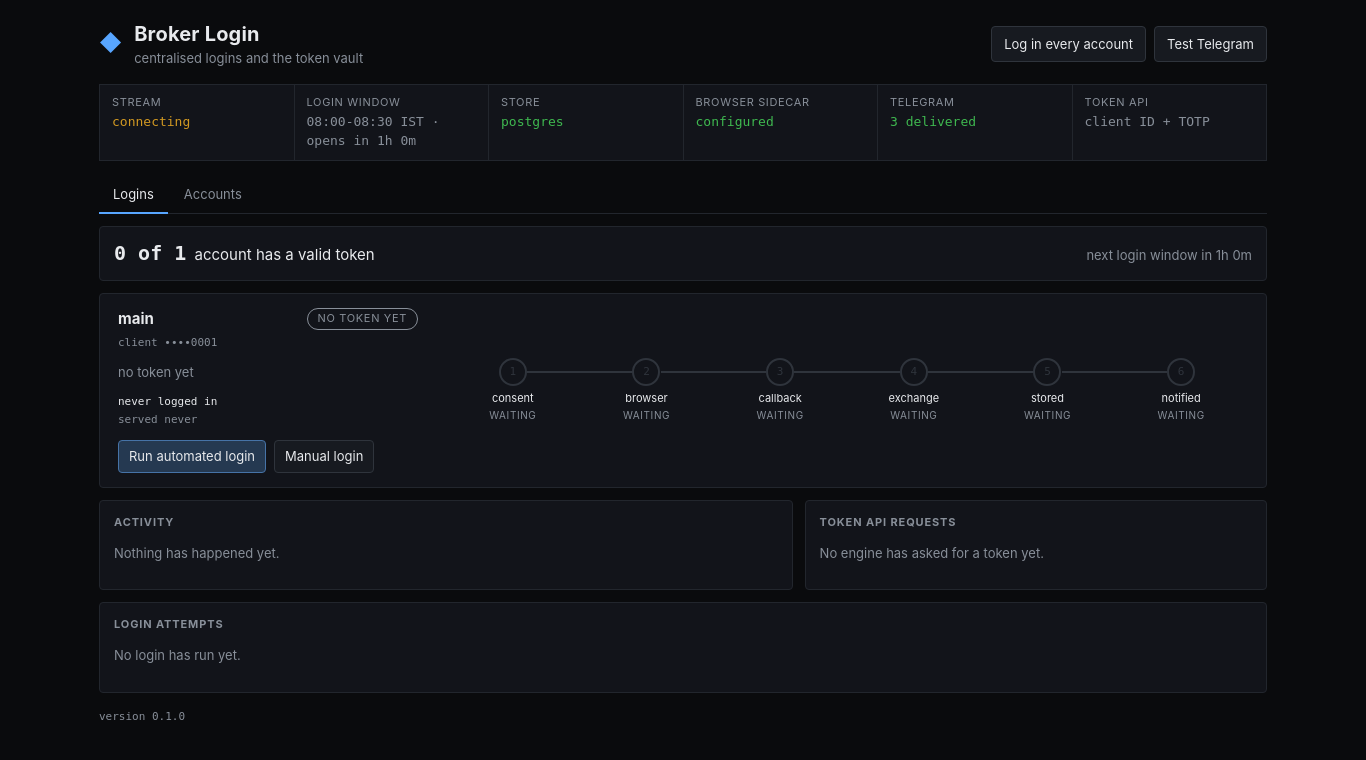
Test: App › queues logins and reports what the server said
The image size is (1366, 760).
Click the button "Log in every account" at {"x": 1069, "y": 44}, box [991,26,1146,62]
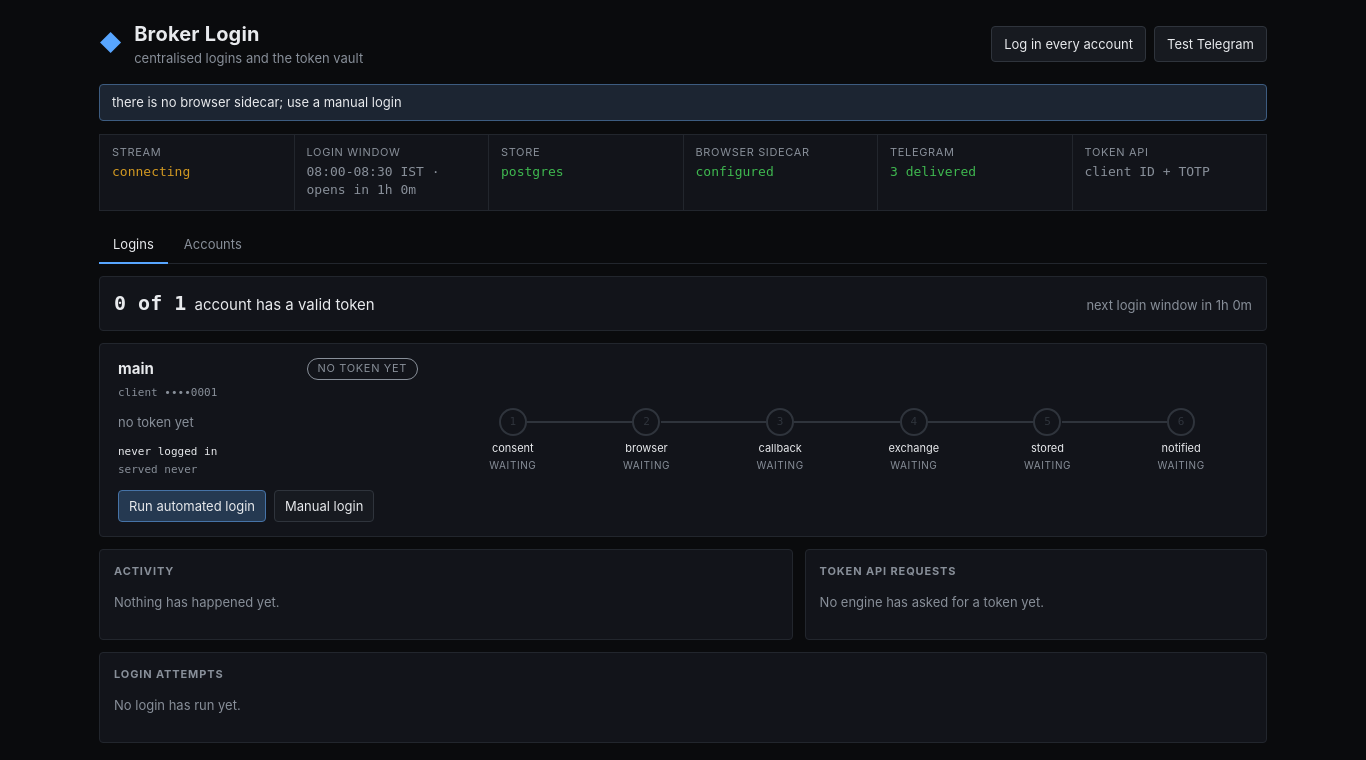
Result: the message shows "there is no browser sidecar" at [112,94,402,110]
Click the button "Test Telegram" at {"x": 1210, "y": 44}, box [1154,26,1267,62]
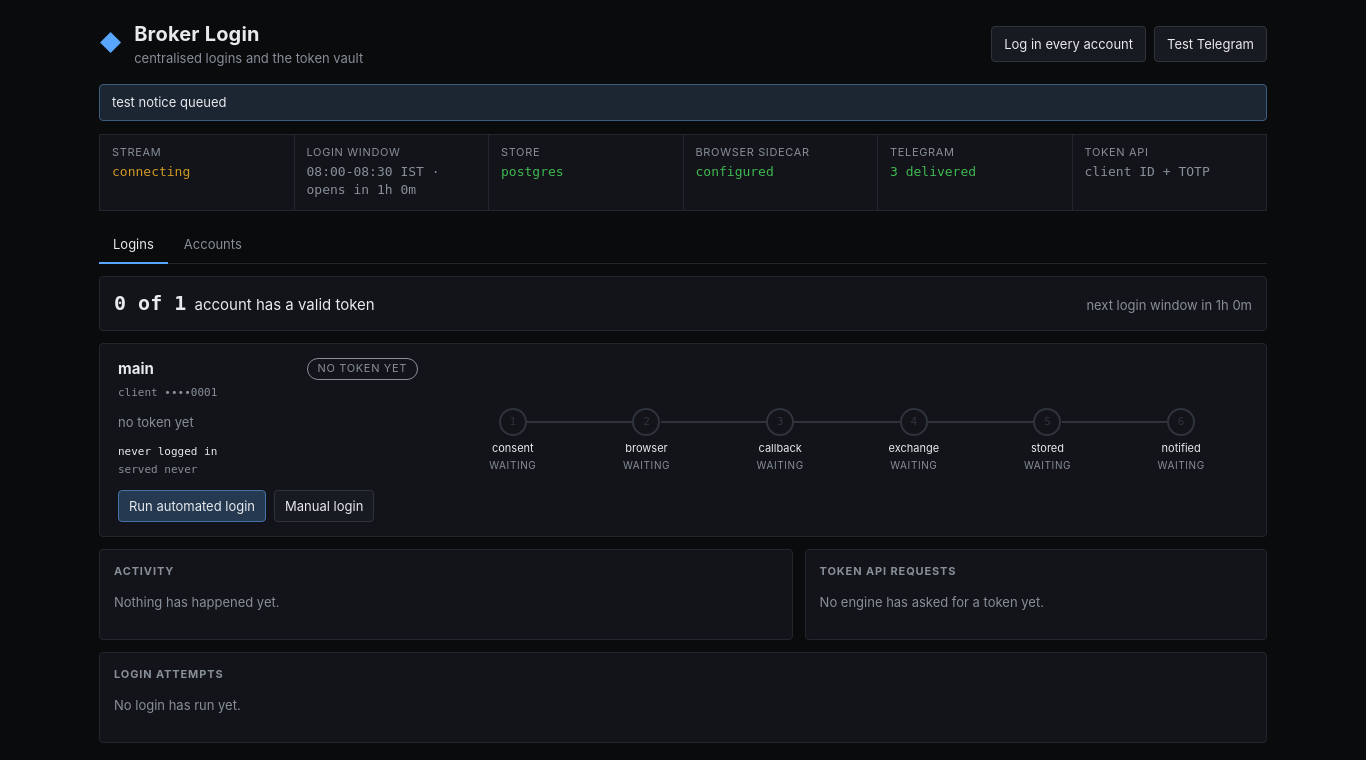
Result: the message reads "test notice queued" at [112,94,226,110]
